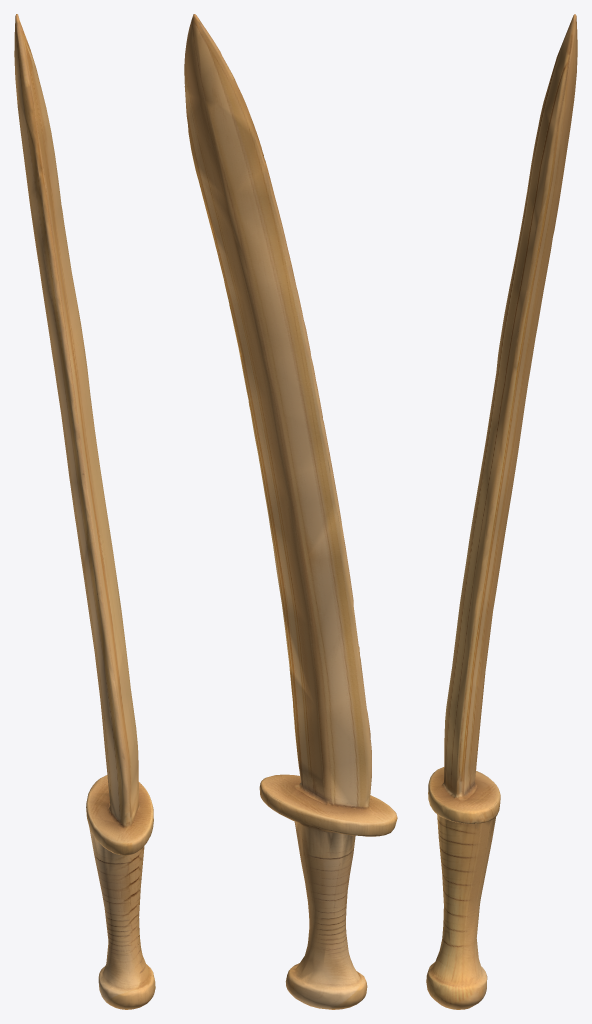
Rendered from Common.glb.
The picture shows the model from 3 angles, left to right: view 1: azimuth 90°, elevation 25°; view 2: azimuth 150°, elevation 25°; view 3: azimuth 270°, elevation 25°; orthographic projection. The views are drawn at different scales.
Visible parts, largest first — view 1: Mesh1.0; view 2: Mesh1.0; view 3: Mesh1.0.
Part boxes in pixels (x1,y1,x2,y2): Mesh1.0: (14,14,155,1009); Mesh1.0: (184,14,397,1009); Mesh1.0: (426,14,577,1009).
Size of the model in its own units: 0.3748 by 2.28 by 0.3056.
1 material, 1 textured.
